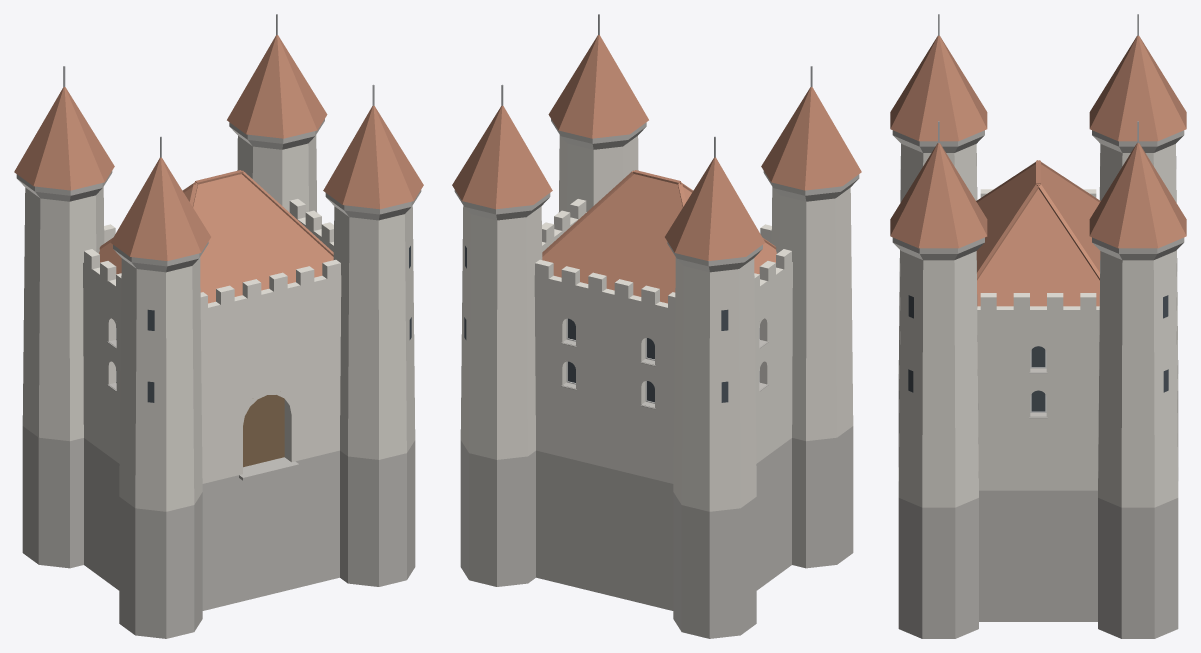
The model's file is castle_s.glb.
3 views of the same model, side by side, from view 1: azimuth 30°, elevation 25°; view 2: azimuth 150°, elevation 25°; view 3: azimuth 270°, elevation 25° (orthographic). The views are drawn at different scales.
Visible parts, largest first — view 1: castle_s; view 2: castle_s; view 3: castle_s.
Part boxes in pixels (<box>): castle_s: <box>14,14,423,638</box>; castle_s: <box>452,14,861,638</box>; castle_s: <box>890,14,1186,638</box>.
Bounding box in the file's own units: 19.36 × 30.48 × 16.36.
